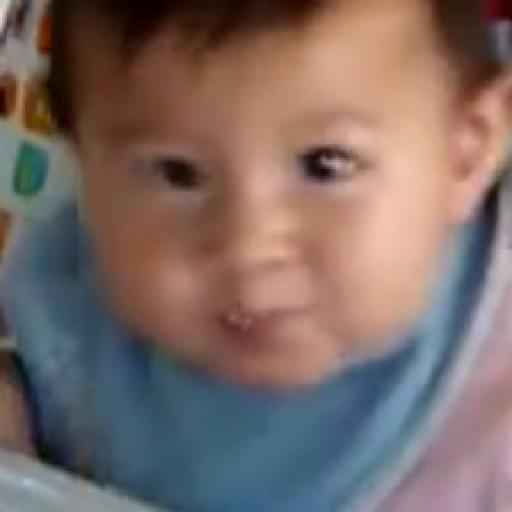Autism: (43, 2, 512, 396)
